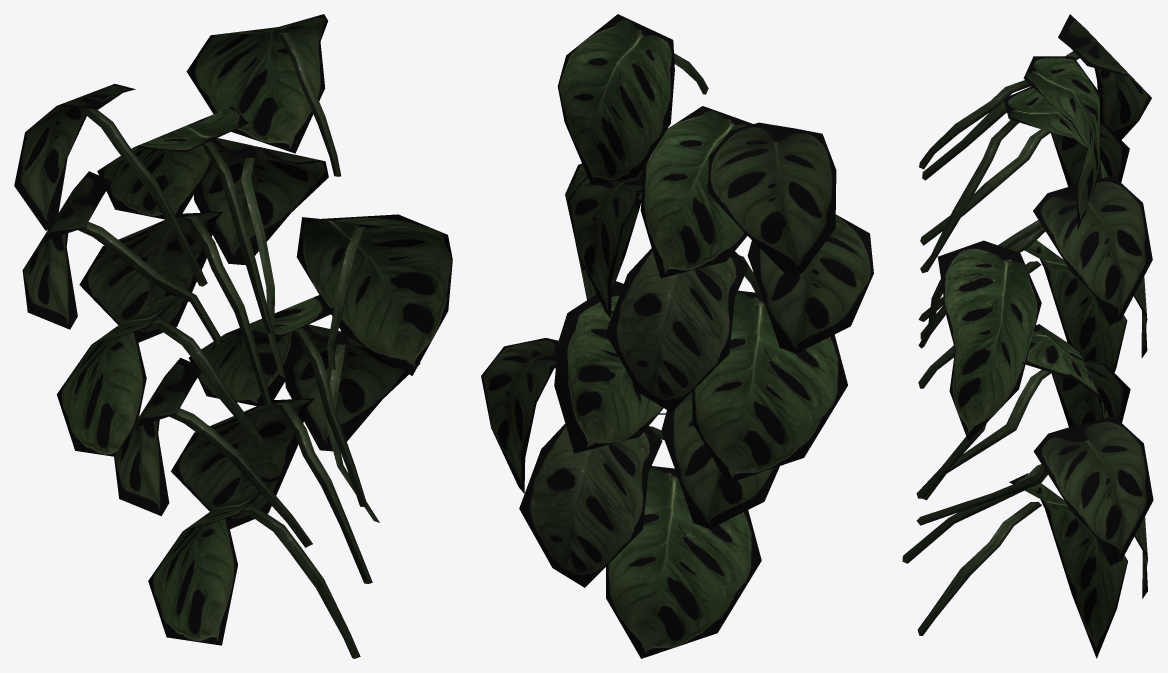
The model's file is monstera.glb.
3 views of the same model, side by side, from view 1: azimuth 30°, elevation 25°; view 2: azimuth 150°, elevation 25°; view 3: azimuth 270°, elevation 25° (orthographic). The views are drawn at different scales.
Visible parts, largest first — view 1: Object_2; view 2: Object_2; view 3: Object_2.
Part boxes in pixels (x1,y1,x2,y2): Object_2: [14, 14, 452, 658]; Object_2: [481, 14, 873, 658]; Object_2: [902, 14, 1153, 658].
Size of the model in its own units: 2.75 by 4.15 by 1.55.
1 material, 1 textured.
